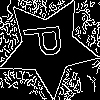P: (23, 21, 71, 60)
